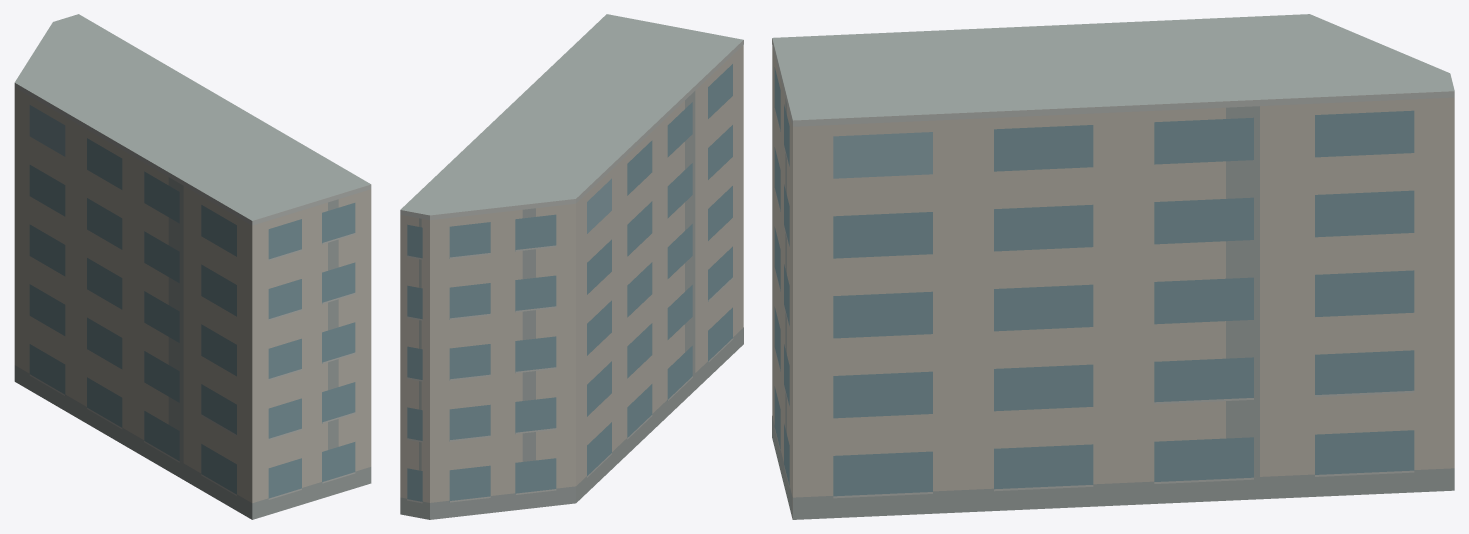
The model's file is survey-upis-32631215.glb.
3 views of the same model, side by side, from view 1: azimuth 30°, elevation 25°; view 2: azimuth 150°, elevation 25°; view 3: azimuth 270°, elevation 25° (orthographic). The views are drawn at different scales.
Visible parts, largest first — view 1: survey-upis-32631215.tmp; view 2: survey-upis-32631215.tmp; view 3: survey-upis-32631215.tmp.
Boxes of the visible parts, bbox=[...] form: survey-upis-32631215.tmp: bbox=[14, 14, 371, 519]; survey-upis-32631215.tmp: bbox=[400, 14, 743, 519]; survey-upis-32631215.tmp: bbox=[772, 14, 1454, 519].
Size of the model in its own units: 8.82 by 15.4 by 23.87.
